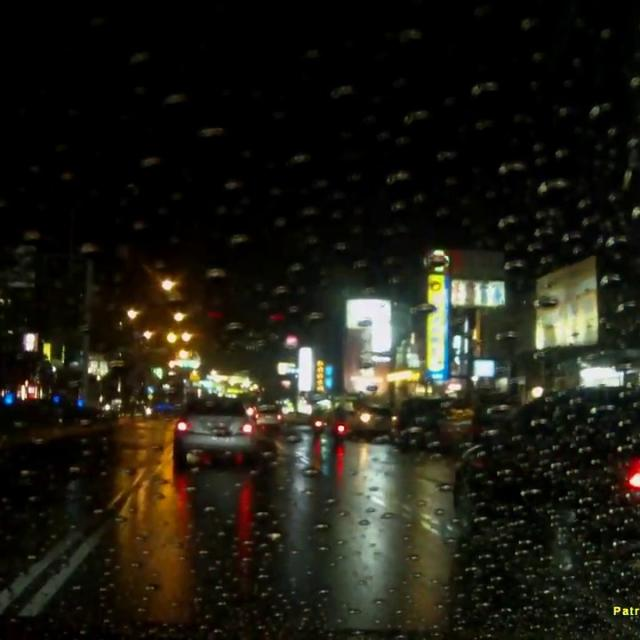Car: (449, 384, 639, 575), (169, 394, 255, 467), (343, 401, 391, 441), (249, 402, 284, 427)
